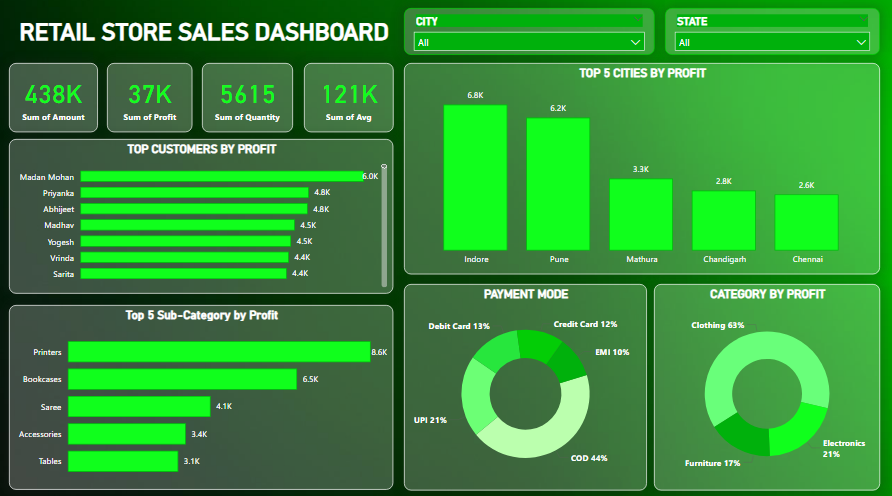

What the dashboard file says about the page in this screenshot:
{"tool":"powerbi","page":{"name":"Page 1","canvas":[1280,720],"ordinal":0},"visuals":[{"type":"textbox","box":[16.8,21.8,574.5,60.5],"z":0},{"type":"columnChart","title":"TOP 5 CITIES BY PROFIT","fields":{"Category":["Orders.City"],"Y":["Details.Profit"]},"box":[579.7,89.3,680.3,301.9],"z":1000},{"type":"barChart","title":"Top 5 Sub-Category by Profit","fields":{"Category":["Details.Sub-Category"],"Y":["Details.Profit"]},"box":[16.4,435.8,549.3,264.2],"z":2000},{"type":"donutChart","title":"PAYMENT MODE","fields":{"Y":["Details.Quantity"],"Category":["Details.PaymentMode"]},"box":[579.7,405.4,347.2,294.8],"z":3000},{"type":"donutChart","title":"CATEGORY BY PROFIT","fields":{"Category":["Details.Category"],"Y":["Details.Quantity"]},"box":[936.9,405.4,323.1,294.8],"z":4000},{"type":"card","fields":{"Values":["Details.Amount"]},"box":[16.4,89.6,126.9,98.5],"z":5000},{"type":"card","fields":{"Values":["Details.Profit"]},"box":[155.2,89.6,122.4,98.5],"z":6000},{"type":"card","fields":{"Values":["Details.Quantity"]},"box":[291,89.6,129.9,98.5],"z":7000},{"type":"card","fields":{"Values":["Details.Avg"]},"box":[437.3,89.6,128.4,98.5],"z":8000},{"type":"barChart","title":"TOP CUSTOMERS BY PROFIT","fields":{"Category":["Orders.CustomerName"],"Y":["Details.Amount"]},"box":[16.4,198.5,549.3,220.9],"z":9000},{"type":"slicer","fields":{"Values":["Orders.City"]},"box":[579.5,11.8,357.8,67.2],"z":10000},{"type":"slicer","fields":{"Values":["Orders.State"]},"box":[952.4,11.8,307.4,67.2],"z":11000}]}

Visuals, with their boxes in screenshot pixels (x1, y1, x2, y2), scaled from the page's 1280x720 canvas onto the 892x496 screenshot:
textbox: bbox=(12, 15, 412, 57)
"TOP 5 CITIES BY PROFIT" columnChart: bbox=(404, 62, 878, 269)
"Top 5 Sub-Category by Profit" barChart: bbox=(11, 300, 394, 482)
"PAYMENT MODE" donutChart: bbox=(404, 279, 646, 482)
"CATEGORY BY PROFIT" donutChart: bbox=(653, 279, 878, 482)
card - Details.Amount: bbox=(11, 62, 100, 130)
card - Details.Profit: bbox=(108, 62, 193, 130)
card - Details.Quantity: bbox=(203, 62, 293, 130)
card - Details.Avg: bbox=(305, 62, 394, 130)
"TOP CUSTOMERS BY PROFIT" barChart: bbox=(11, 137, 394, 289)
slicer - Orders.City: bbox=(404, 8, 653, 54)
slicer - Orders.State: bbox=(664, 8, 878, 54)
